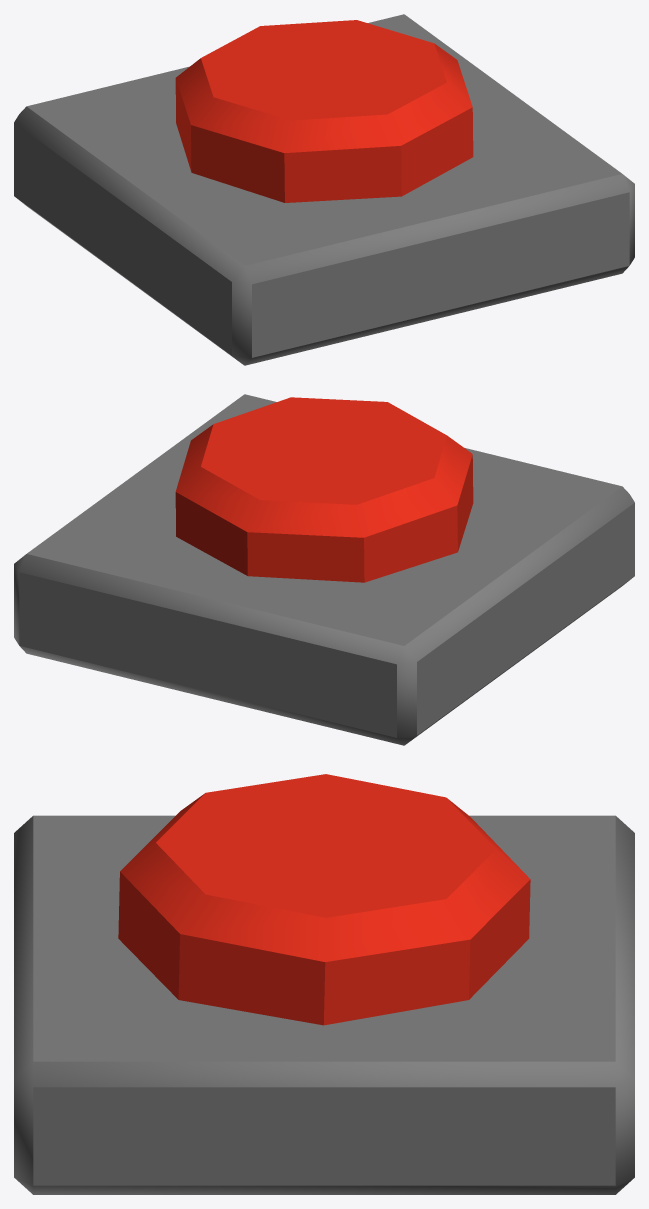
Rendered from SM_PCButton.fbx.
3 renders of one model, top to bottom at view 1: azimuth 30°, elevation 25°; view 2: azimuth 150°, elevation 25°; view 3: azimuth 270°, elevation 25°, orthographic. The views are drawn at different scales.
Parts seen in each view (by area): view 1: SM_PCButton; view 2: SM_PCButton; view 3: SM_PCButton.
Part boxes in pixels (x1=…): SM_PCButton: x1=14, y1=14, x2=634, y2=365; SM_PCButton: x1=14, y1=394, x2=634, y2=745; SM_PCButton: x1=14, y1=774, x2=634, y2=1194.
Bounding box in the file's own units: 27.1 × 11.03 × 27.1.
